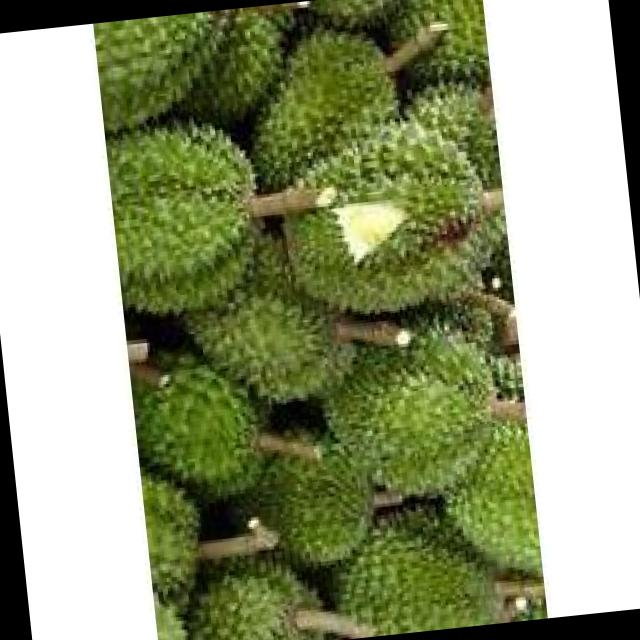fruit: (214, 0, 421, 205), (219, 412, 407, 592), (293, 479, 499, 640)
